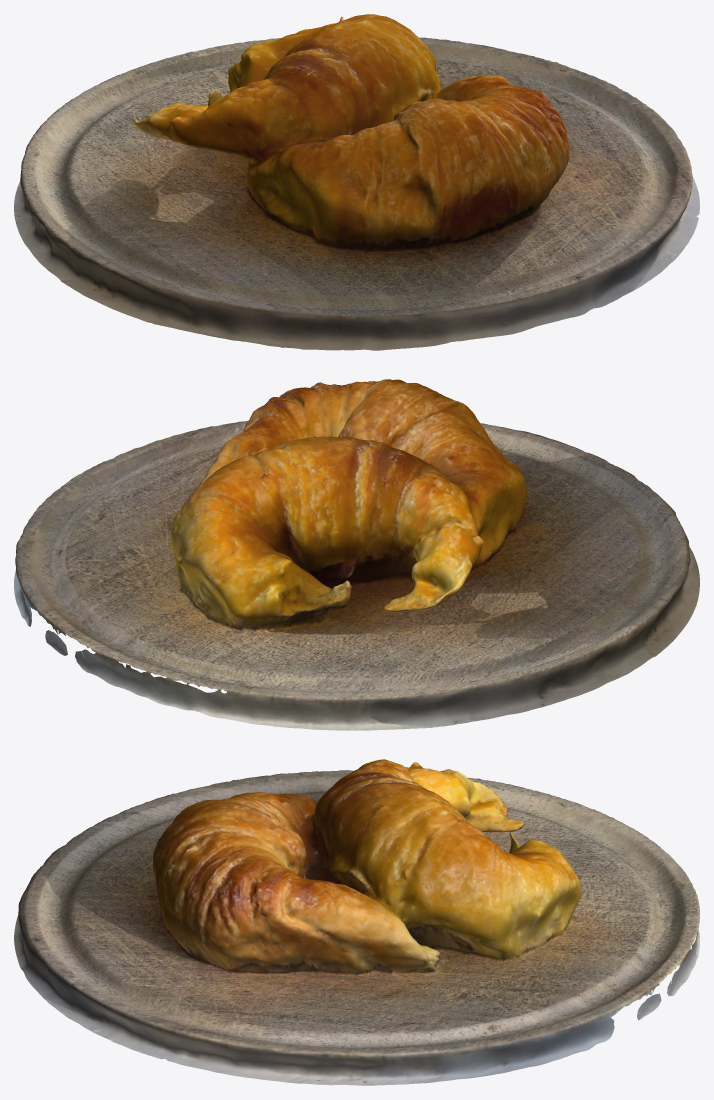
File: kroasan.glb
The picture shows the model from 3 angles, top to bottom: view 1: azimuth 30°, elevation 25°; view 2: azimuth 150°, elevation 25°; view 3: azimuth 270°, elevation 25°; orthographic projection.
Parts seen in each view (by area): view 1: FoodAR; view 2: FoodAR; view 3: FoodAR.
Boxes of the visible parts, box(x1,y1,x2,y2) form: FoodAR: box(14, 14, 699, 350); FoodAR: box(14, 379, 699, 730); FoodAR: box(14, 759, 699, 1085).
Size of the model in its own units: 0.25 by 0.0629 by 0.25.
1 material, 1 textured.
